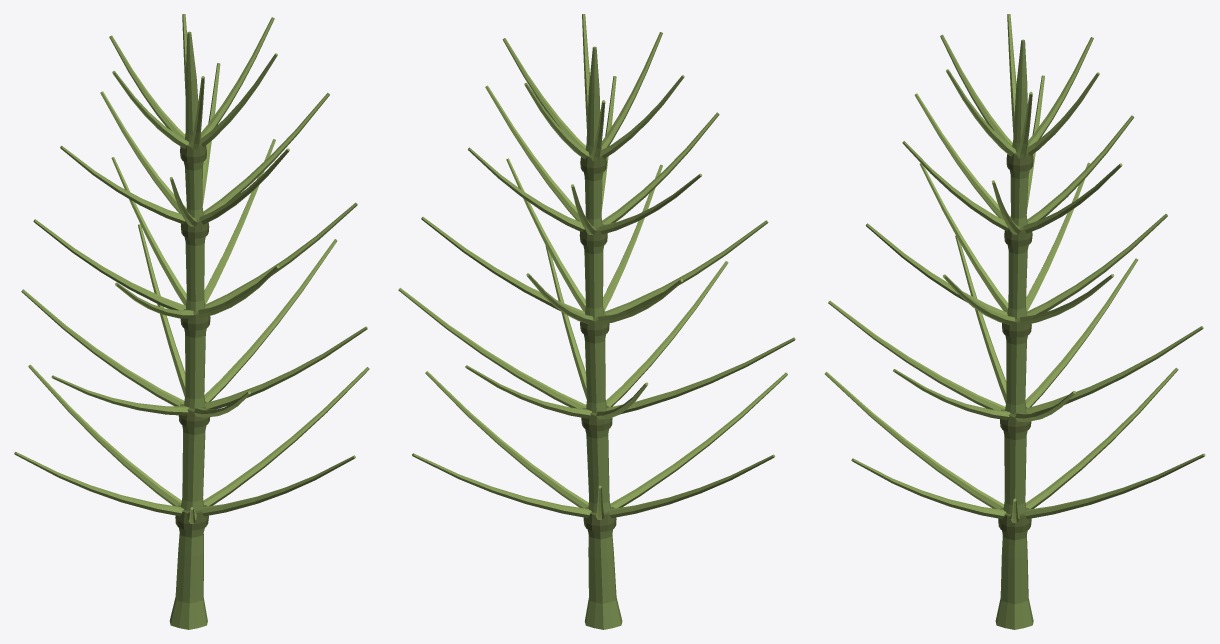
3 views of the same model, side by side, from view 1: azimuth 30°, elevation 25°; view 2: azimuth 150°, elevation 25°; view 3: azimuth 270°, elevation 25° (orthographic).
Parts seen in each view (by area): view 1: WholeTaperedJointedMainStem, WholeWhorledArticulatedBranch1_1, WholeWhorledArticulatedBranch1_3, WholeWhorledArticulatedBranch2_3, WholeWhorledArticulatedBranch2_1, WholeWhorledArticulatedBranch1_4, WholeWhorledArticulatedBranch3_3, WholeWhorledArticulatedBranch2_6, WholeWhorledArticulatedBranch1_6, WholeWhorledArticulatedBranch4_6, WholeWhorledArticulatedBranch3_6, WholeWhorledArticulatedBranch2_2 (+13 smaller); view 2: WholeTaperedJointedMainStem, WholeWhorledArticulatedBranch2_1, WholeWhorledArticulatedBranch1_5, WholeWhorledArticulatedBranch1_1, WholeWhorledArticulatedBranch1_2, WholeWhorledArticulatedBranch2_4, WholeWhorledArticulatedBranch2_5, WholeWhorledArticulatedBranch1_4, WholeWhorledArticulatedBranch3_4, WholeWhorledArticulatedBranch4_4, WholeWhorledArticulatedBranch3_1, WholeWhorledArticulatedBranch4_6 (+11 smaller); view 3: WholeTaperedJointedMainStem, WholeWhorledArticulatedBranch1_5, WholeWhorledArticulatedBranch2_5, WholeWhorledArticulatedBranch1_3, WholeWhorledArticulatedBranch1_2, WholeWhorledArticulatedBranch2_2, WholeWhorledArticulatedBranch2_3, WholeWhorledArticulatedBranch3_2, WholeWhorledArticulatedBranch1_6, WholeWhorledArticulatedBranch3_4, WholeWhorledArticulatedBranch4_2, WholeWhorledArticulatedBranch2_4 (+13 smaller).
Boxes of the visible parts, x1,y1,x2,y2 form: WholeTaperedJointedMainStem: (169,31,207,629); WholeWhorledArticulatedBranch1_1: (203,367,369,506); WholeWhorledArticulatedBranch1_3: (28,364,181,506); WholeWhorledArticulatedBranch2_3: (21,289,184,406); WholeWhorledArticulatedBranch2_1: (204,239,337,402); WholeWhorledArticulatedBranch1_4: (14,452,183,516); WholeWhorledArticulatedBranch3_3: (33,219,185,310); WholeWhorledArticulatedBranch2_6: (204,326,367,409); WholeWhorledArticulatedBranch1_6: (200,455,355,516); WholeWhorledArticulatedBranch4_6: (203,93,329,214); WholeWhorledArticulatedBranch3_6: (205,202,357,308); WholeWhorledArticulatedBranch2_2: (138,224,185,396); WholeTaperedJointedMainStem: (583,46,622,629); WholeWhorledArticulatedBranch2_1: (398,288,586,408); WholeWhorledArticulatedBranch1_5: (610,372,787,508); WholeWhorledArticulatedBranch1_1: (425,371,588,508); WholeWhorledArticulatedBranch1_2: (412,453,591,518); WholeWhorledArticulatedBranch2_4: (606,337,795,414); WholeWhorledArticulatedBranch2_5: (606,261,728,407); WholeWhorledArticulatedBranch1_4: (608,454,775,518); WholeWhorledArticulatedBranch3_4: (604,220,768,315); WholeWhorledArticulatedBranch4_4: (602,112,719,224); WholeWhorledArticulatedBranch3_1: (421,217,585,314); WholeWhorledArticulatedBranch4_6: (485,85,580,221); WholeTaperedJointedMainStem: (995,39,1033,629); WholeWhorledArticulatedBranch1_5: (824,371,1003,509); WholeWhorledArticulatedBranch2_5: (828,300,1005,410); WholeWhorledArticulatedBranch1_3: (1025,368,1178,509); WholeWhorledArticulatedBranch1_2: (1023,453,1205,519); WholeWhorledArticulatedBranch2_2: (1026,326,1203,413); WholeWhorledArticulatedBranch2_3: (1025,258,1137,407); WholeWhorledArticulatedBranch3_2: (1026,214,1167,315); WholeWhorledArticulatedBranch1_6: (851,458,1006,519); WholeWhorledArticulatedBranch3_4: (919,163,1008,311); WholeWhorledArticulatedBranch4_2: (1027,115,1134,223); WholeWhorledArticulatedBranch2_4: (955,235,1006,403).
Bounding box in the file's own units: 0.6954 × 1.1 × 0.6487.
